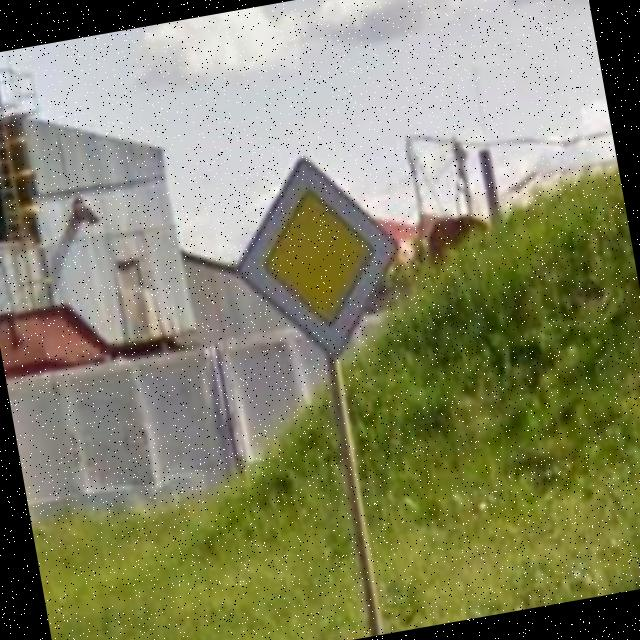Droga z pierwszenstwem: (218, 142, 418, 371)
